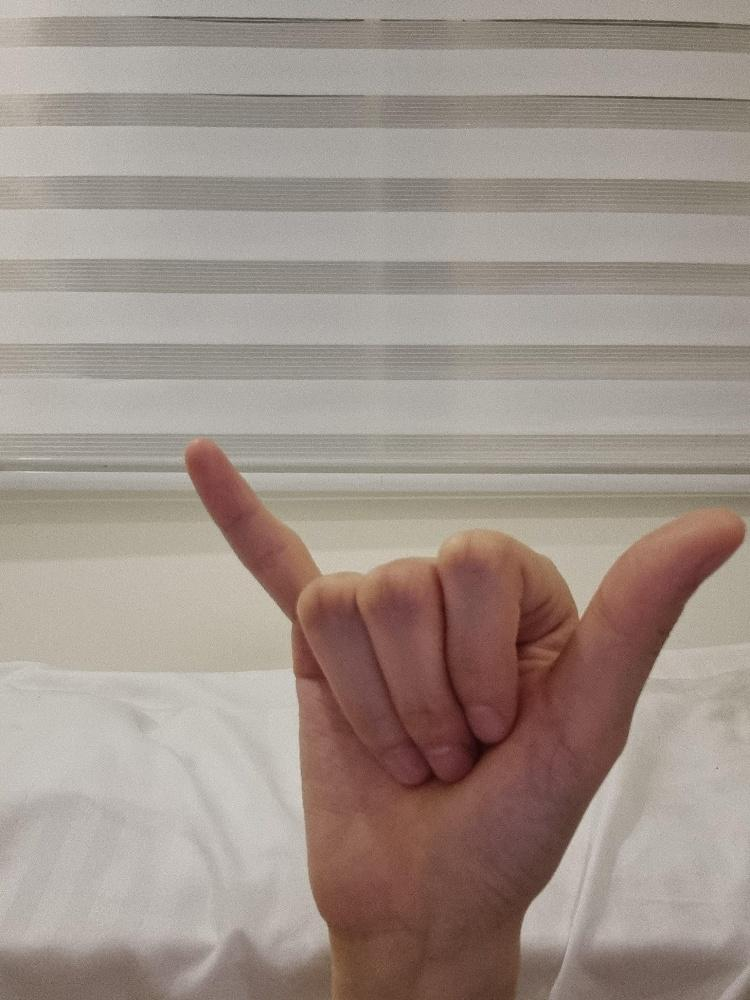y: (179, 432, 748, 941)
